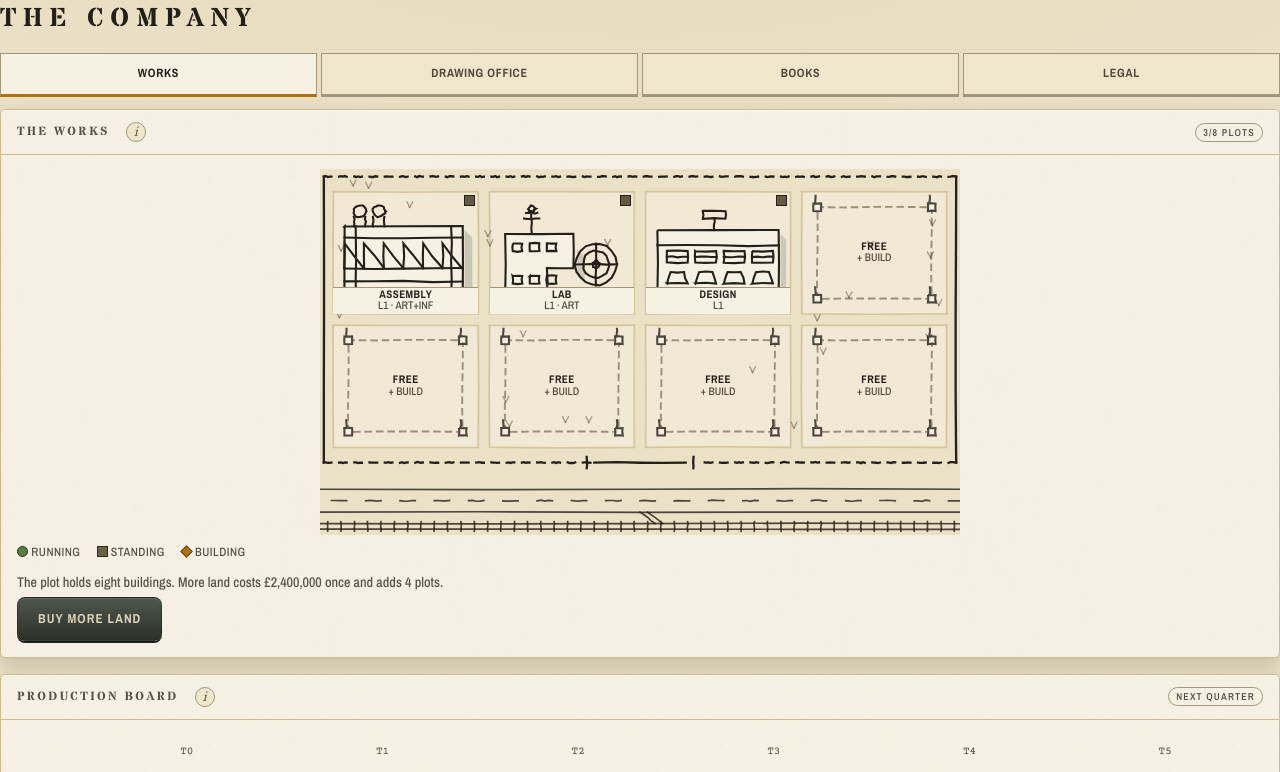
Scenario: THE COMPANY i fyra lådor (P179) › varje låda visar sitt: Books har balansen, Drawing office ritbordet, Legal pappersspåret
The width and height of the screenshot is (1280, 772).
Click the tab with test id "company-drawer-books".
click(800, 75)  # box [642,53,959,97]
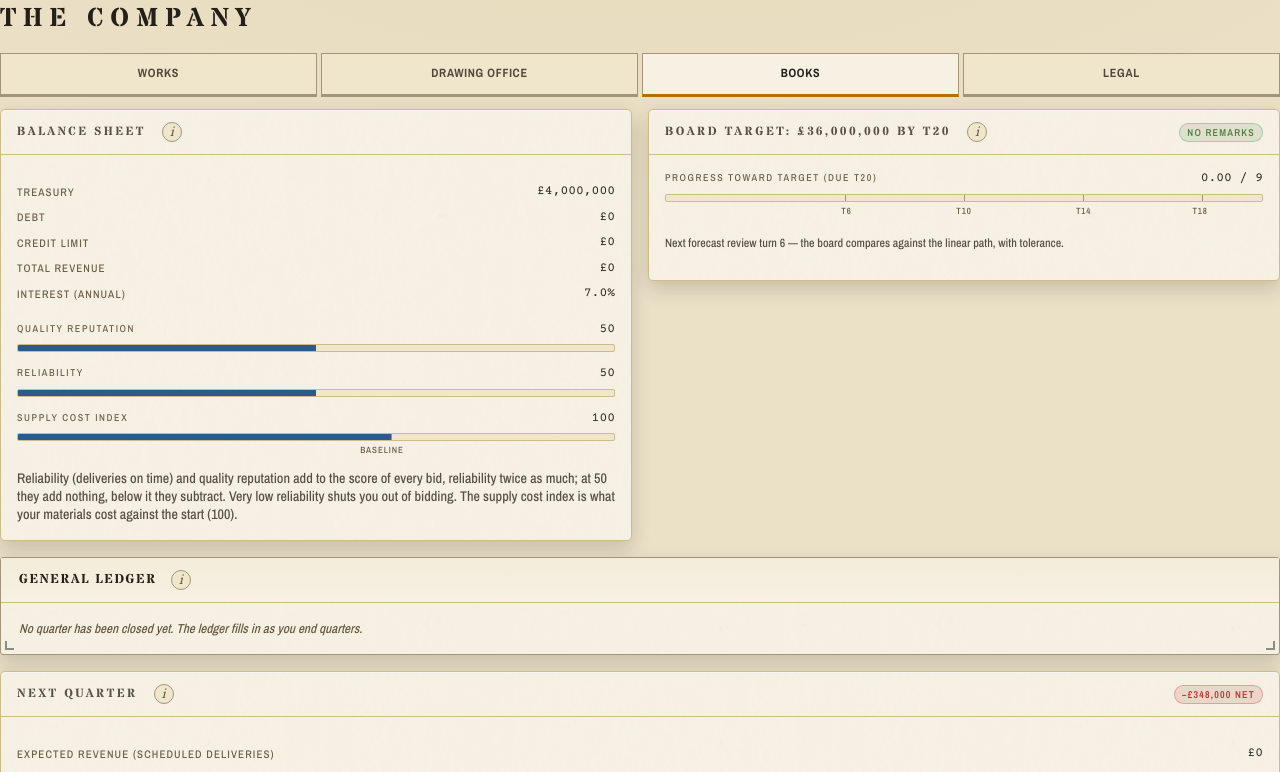
Check: the heading "Balance sheet" is shown, box [17,123,146,141]
Check: the heading "Board target: £36,000,000 by T20" is shown, box [665,123,951,141]
Check: the element with test id "works-plan" is gone
Click the tab with test id "company-drawer-drawing".
click(480, 75)  # box [321,53,638,97]
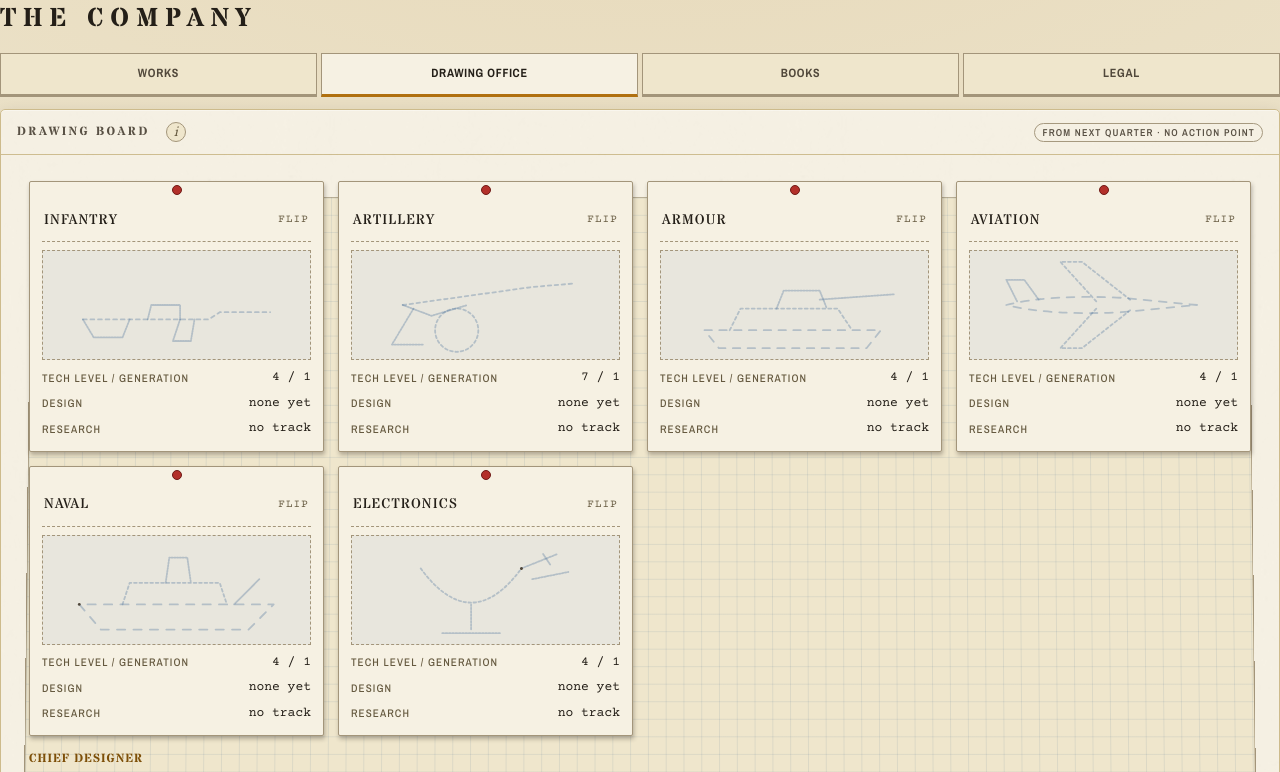
Click the tab with test id "company-drawer-legal".
click(1122, 75)  # box [963,53,1279,97]
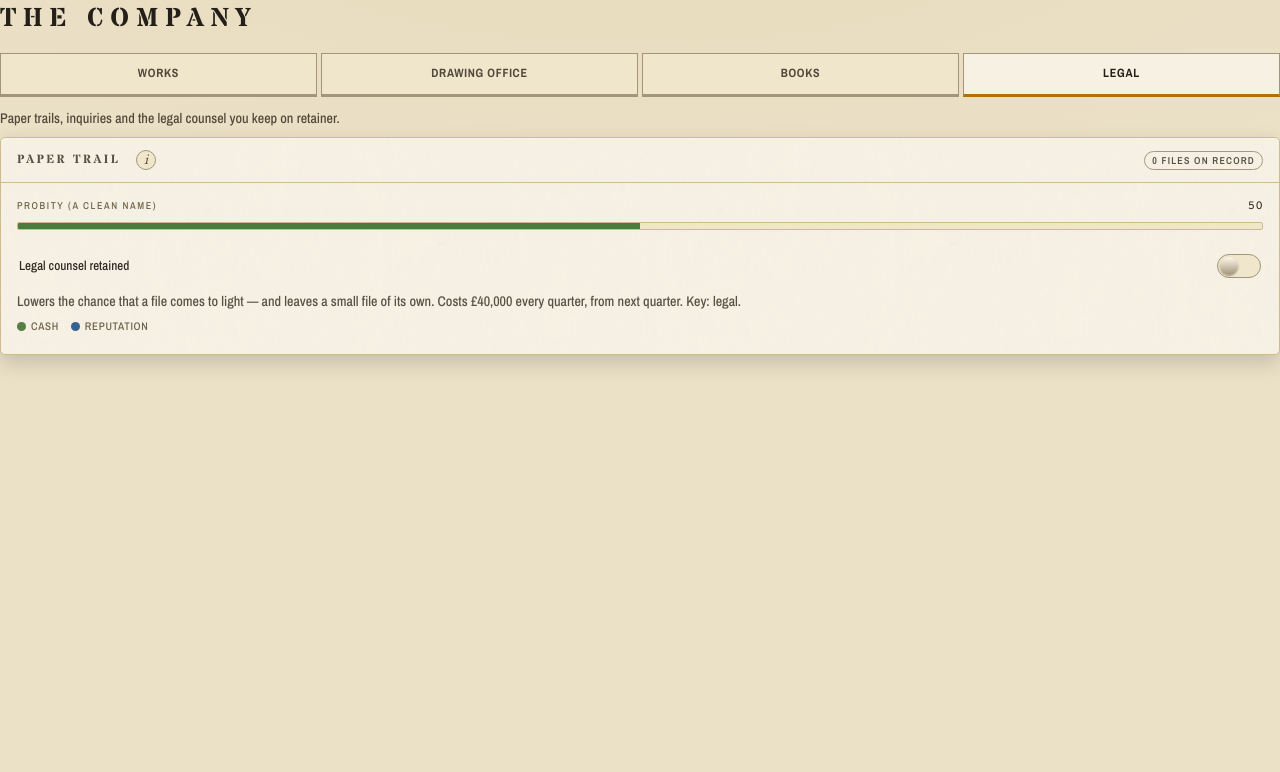
Check: the element with test id "paper-trail" is shown, box [17,197,1263,338]
